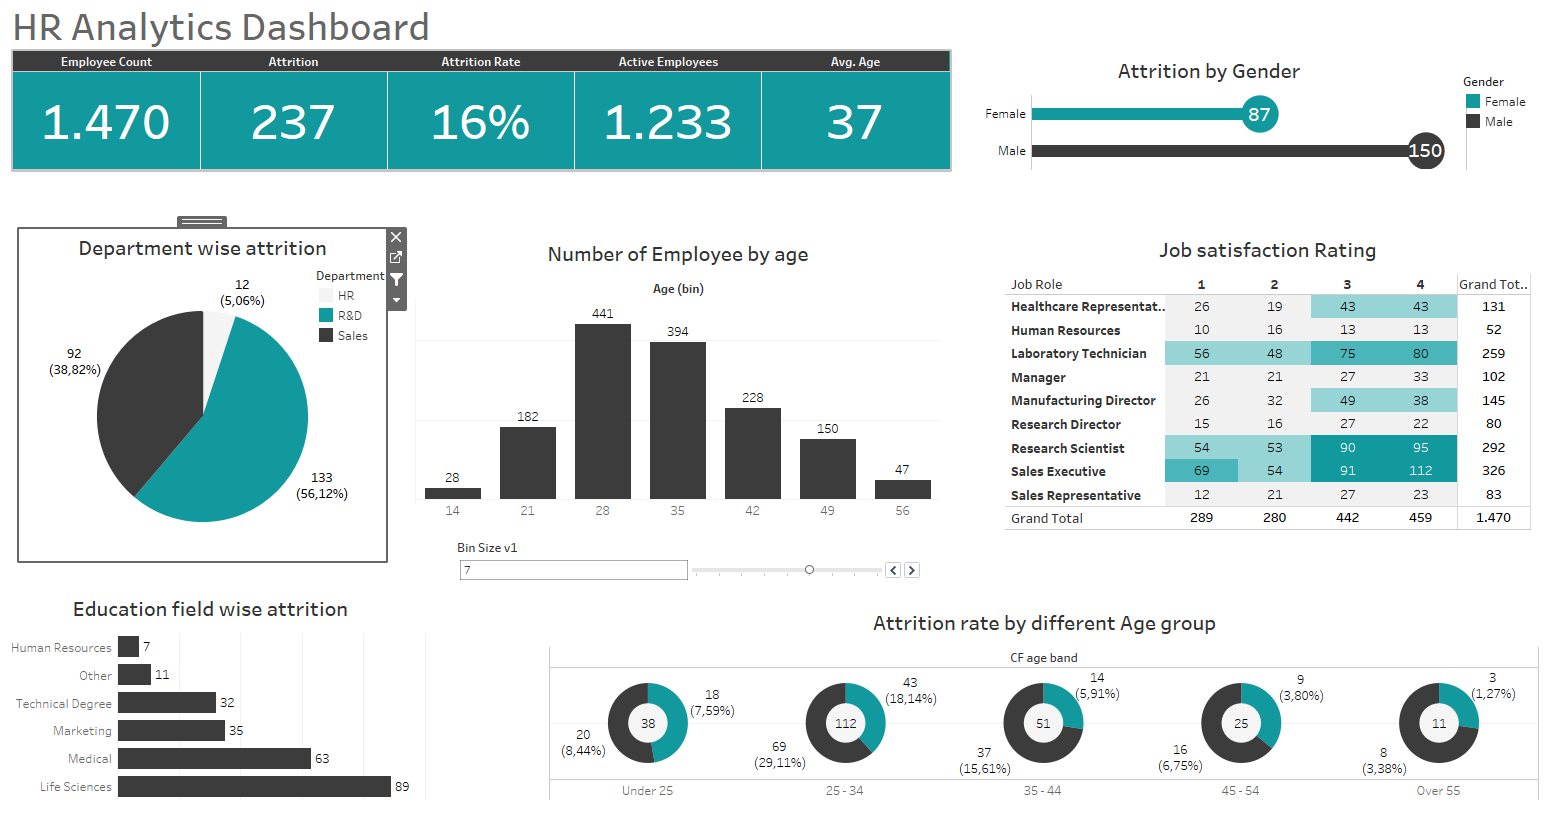

This screenshot's page, from the dashboard's own definition file:
{"tool":"tableau","page":{"name":"HR Analytics Dashboards","canvas":[1000,1000],"units":"permille","ordinal":0},"visuals":[{"type":"blank","box":[5.1,9.3,989.9,981.3]},{"type":"text","box":[16.5,22.2,438.6,64.2]},{"type":"worksheet","title":"KPI","mark":"Automatic","box":[19,84,593,138.9]},{"type":"worksheet","title":"Attrition by Gender","mark":"Automatic","rows":["Gender"],"cols":["Calculation_1674494687043641345","Calculation_1674494687043641345"],"box":[612.7,85.2,326.6,137.7]},{"type":"legend","title":"Attrition by Gender","param":"[federated.0dmqrwq02wqjkb19yhhf60tussmc].[none:Gender:nk]","box":[936.7,109.7,51.3,67.7]},{"type":"worksheet","title":"Department wise attrition","mark":"Pie","box":[22.8,291.7,218.3,387.4]},{"type":"worksheet","title":"Job satisfaction Rating","mark":"Square","rows":["Job Role"],"cols":["Job Satisfaction"],"box":[646.8,294.1,332.9,350.1]},{"type":"worksheet","title":"Nomber of Employee by age","mark":"Automatic","rows":["Employee Count"],"cols":["Age (bin)"],"box":[273.4,298.7,332.9,332.6]},{"type":"legend","title":"Department wise attrition","param":"[federated.0dmqrwq02wqjkb19yhhf60tussmc].[none:Department:nk]","box":[210.8,336.1,53.2,91]},{"type":"parameter","param":"[Parameters].[Parameter 2]","box":[300,653.4,294.9,52.5]},{"type":"worksheet","title":"Education field wise attrition ","mark":"Automatic","rows":["Education Field"],"cols":["Calculation_1674494687043641345"],"box":[8.9,713,272.8,245]},{"type":"worksheet","title":"Attrition Rate by different Age Group (4)","mark":"Pie","rows":["Calculation_1674494687282839558","Calculation_1674494687282839558"],"cols":["CF_age band"],"box":[358.2,729.3,627.2,229.9]}]}

Visuals, with their boxes on the dashboard's canvas, which has no fixed pixel size, in thousandths of its width and height (x1, y1, x2, y2). These are canvas units, not pixel positions in the 1551x822 screenshot, which may show the page scaled, cropped or inside an application window:
blank: (5,9,995,991)
text: (16,22,455,86)
"KPI" worksheet: (19,84,612,223)
"Attrition by Gender" worksheet: (613,85,939,223)
"Attrition by Gender" legend: (937,110,988,177)
"Department wise attrition" worksheet (Pie marks): (23,292,241,679)
"Job satisfaction Rating" worksheet (Square marks): (647,294,980,644)
"Nomber of Employee by age" worksheet: (273,299,606,631)
"Department wise attrition" legend: (211,336,264,427)
parameter: (300,653,595,706)
"Education field wise attrition " worksheet: (9,713,282,958)
"Attrition Rate by different Age Group (4)" worksheet (Pie marks): (358,729,985,959)
